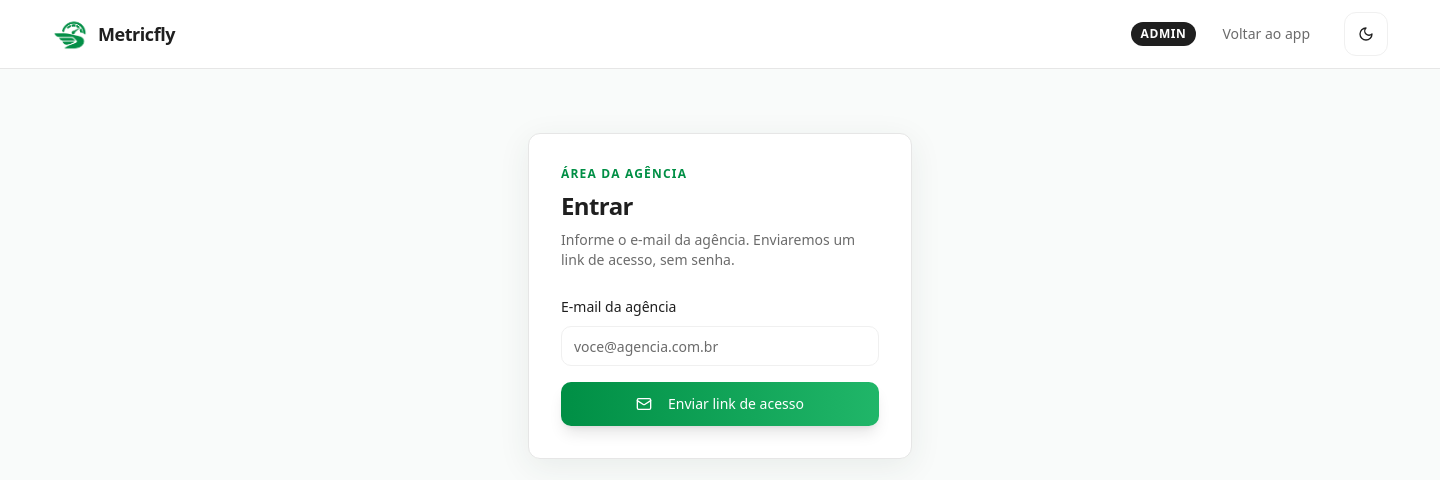
Test case: Agency admin area › asks the agency e-mail for a link without creating accounts
In the field labelled "E-mail da agência": (720, 346) [561,326,879,366], type " Suporte@AgenciaTupiniquim.com.br "
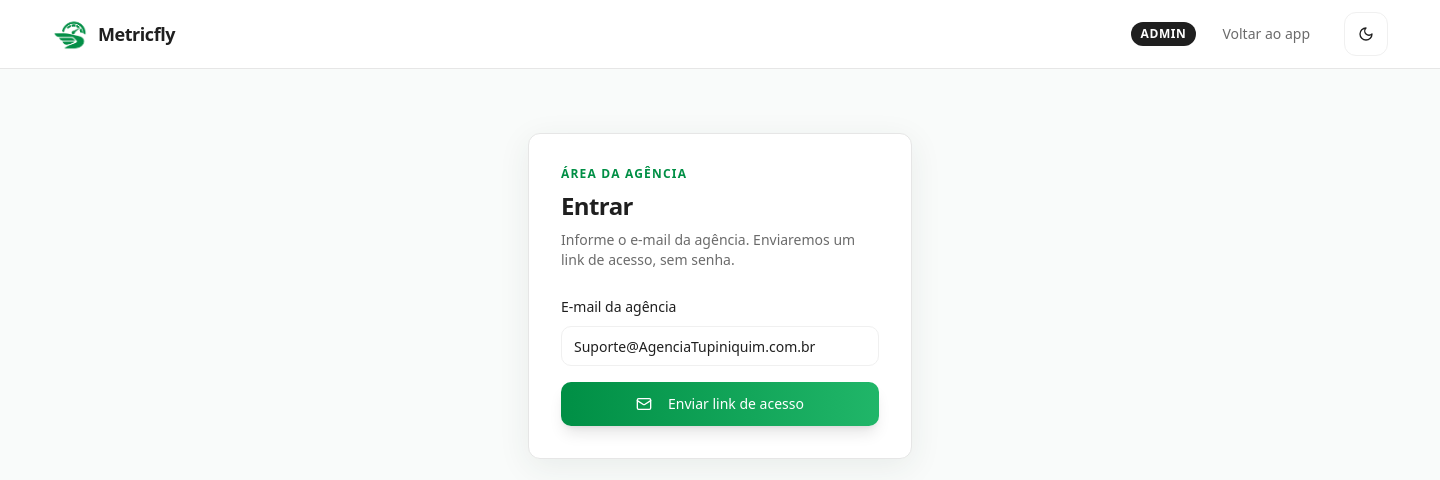
Click the button "Enviar link de acesso": (720, 404) [561,382,879,426]
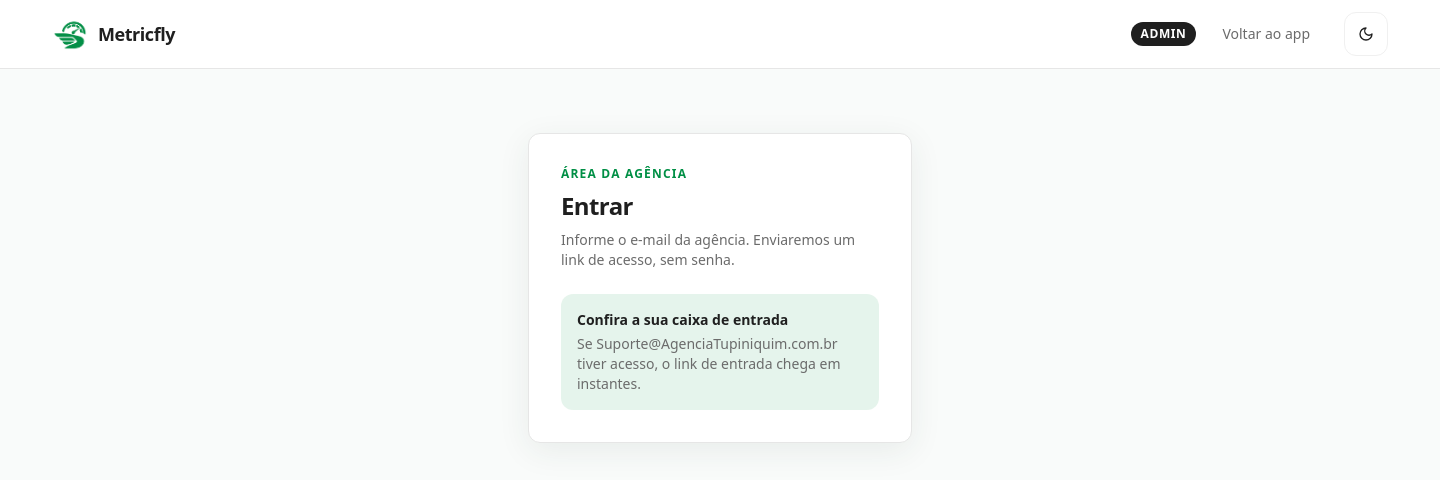
Now the text "Confira a sua caixa de entrada" is shown, box [577,310,788,329]
